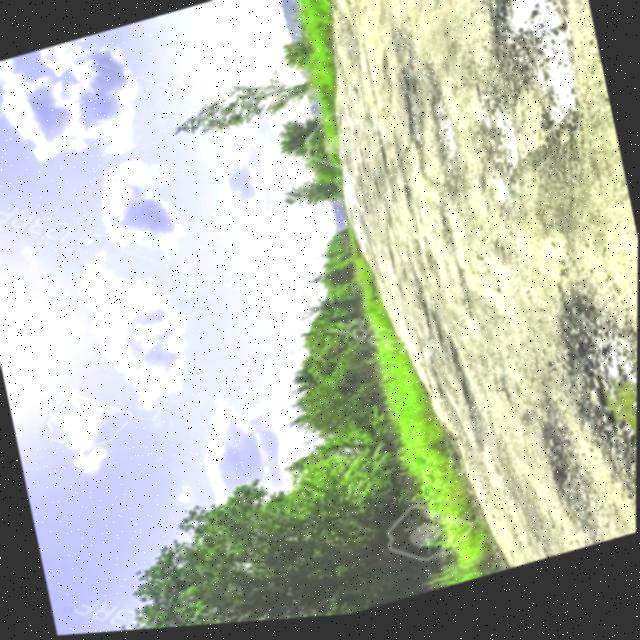Pothole: (444, 0, 610, 187), (529, 277, 638, 475), (517, 375, 579, 511), (411, 70, 479, 174), (440, 326, 489, 433), (418, 295, 448, 362), (408, 0, 486, 23)
